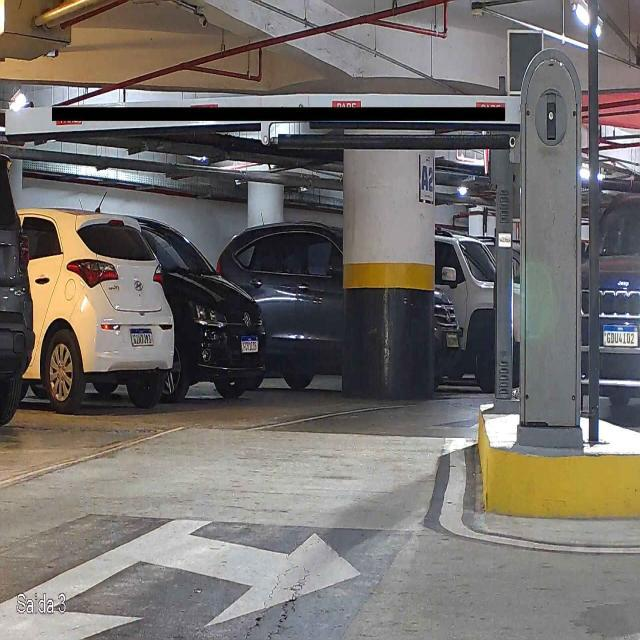mercosul_plate: (602, 323, 639, 348)
